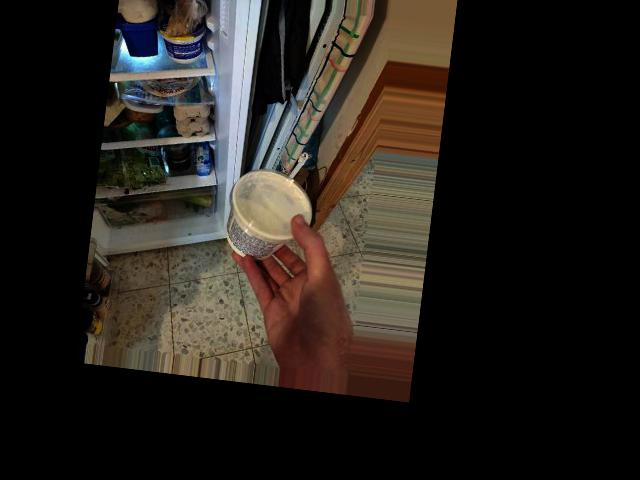cotage: (228, 167, 308, 258)
